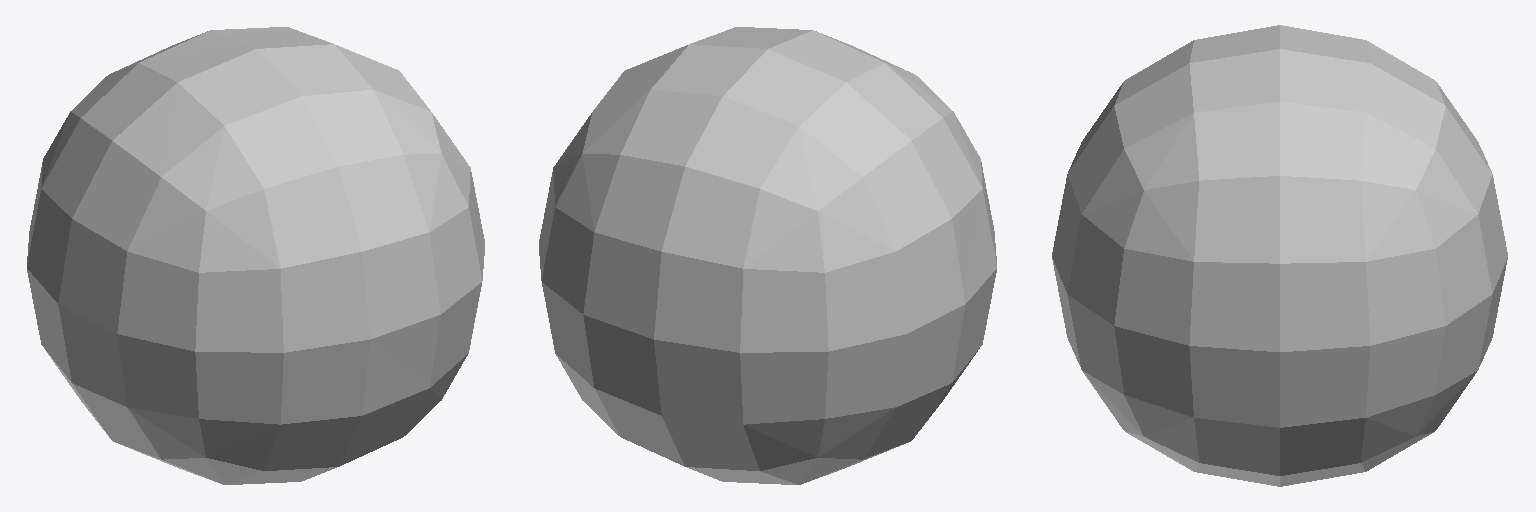
3 views of the same model, side by side, from view 1: azimuth 30°, elevation 25°; view 2: azimuth 150°, elevation 25°; view 3: azimuth 270°, elevation 25° (orthographic).
Parts seen in each view (by area): view 1: 立方体; view 2: 立方体; view 3: 立方体.
Part boxes in pixels (x1,y1,x2,y2): 立方体: (27, 27, 484, 484); 立方体: (539, 27, 996, 484); 立方体: (1052, 25, 1507, 486).
Bounding box in the file's own units: 1.68 × 1.68 × 1.68.